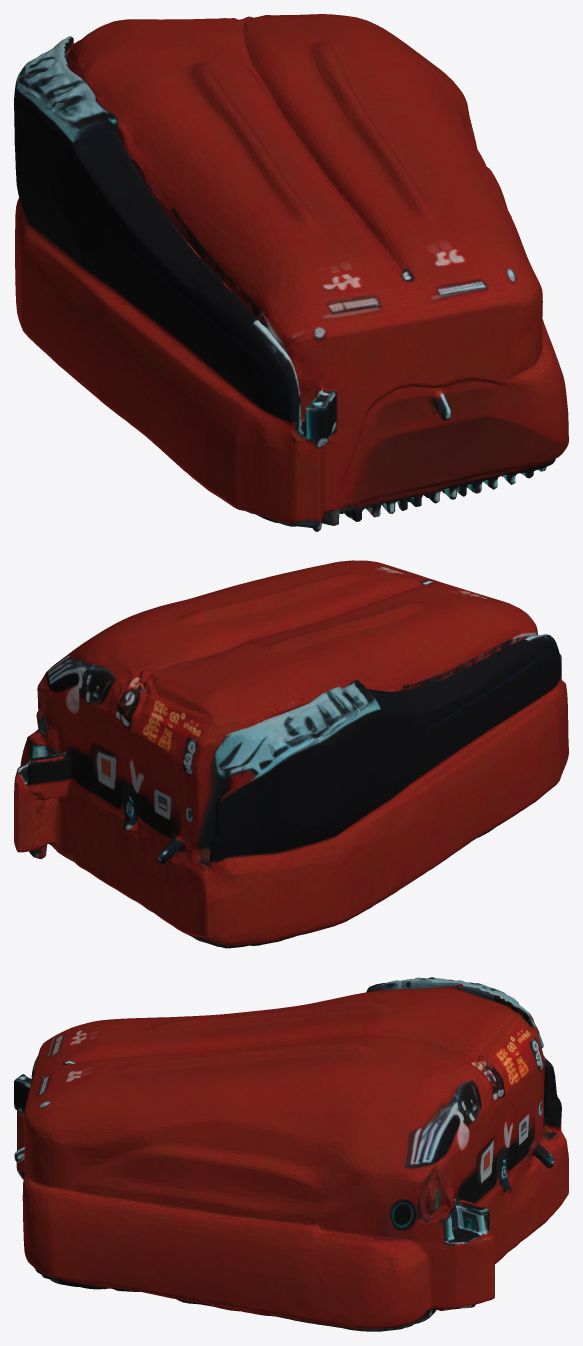
File: image_0001_segmented.glb
3 renders of one model, top to bottom at view 1: azimuth 30°, elevation 25°; view 2: azimuth 150°, elevation 25°; view 3: azimuth 270°, elevation 25°, orthographic. The views are drawn at different scales.
Visible parts, largest first — view 1: tmp1p2_fx8d.ply; view 2: tmp1p2_fx8d.ply; view 3: tmp1p2_fx8d.ply.
Part boxes in pixels (<box>): tmp1p2_fx8d.ply: <box>14,14,568,531</box>; tmp1p2_fx8d.ply: <box>14,560,568,948</box>; tmp1p2_fx8d.ply: <box>14,977,568,1331</box>.
Size of the model in its own units: 1.51 by 0.8987 by 2.
1 material, 1 textured.
